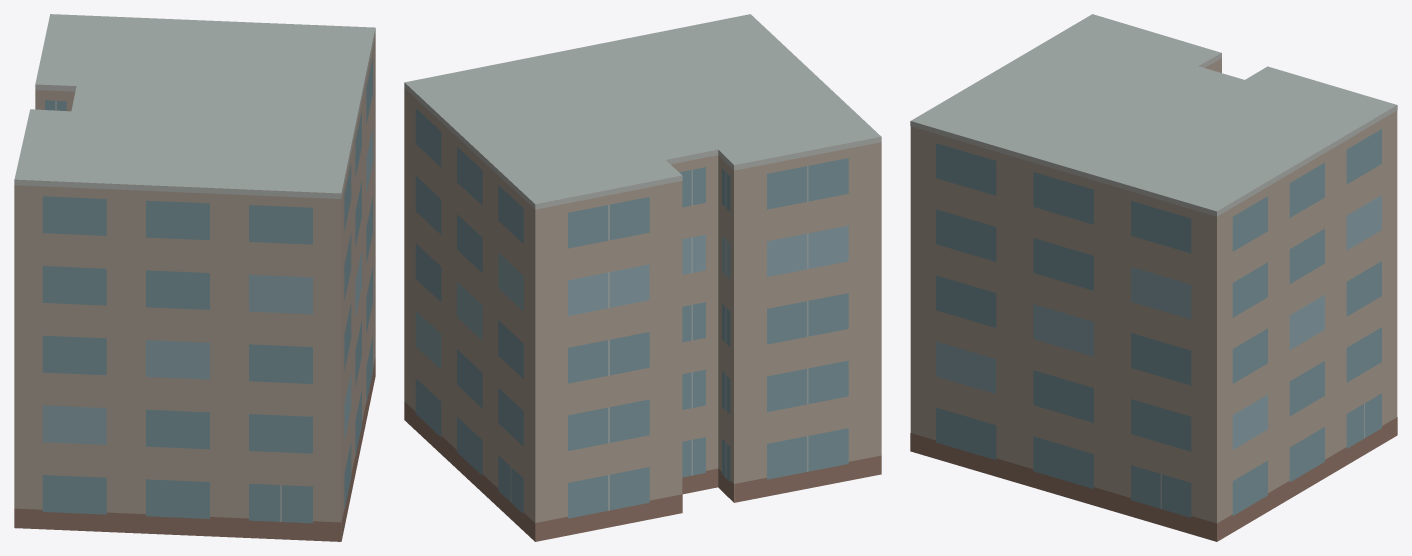
The model's file is survey-upis-32979598.glb.
3 renders of one model, left to right at view 1: azimuth 30°, elevation 25°; view 2: azimuth 150°, elevation 25°; view 3: azimuth 270°, elevation 25°, orthographic. The views are drawn at different scales.
Parts seen in each view (by area): view 1: survey-upis-32979598.tmp; view 2: survey-upis-32979598.tmp; view 3: survey-upis-32979598.tmp.
Part boxes in pixels (x1,y1,x2,y2): survey-upis-32979598.tmp: [14, 14, 375, 541]; survey-upis-32979598.tmp: [404, 14, 881, 541]; survey-upis-32979598.tmp: [910, 14, 1397, 541].
Size of the model in its own units: 19.56 by 15.25 by 20.38.
